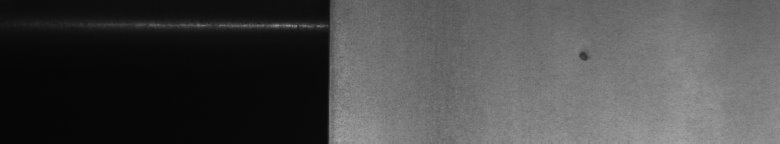fi: (575, 42, 592, 68)
